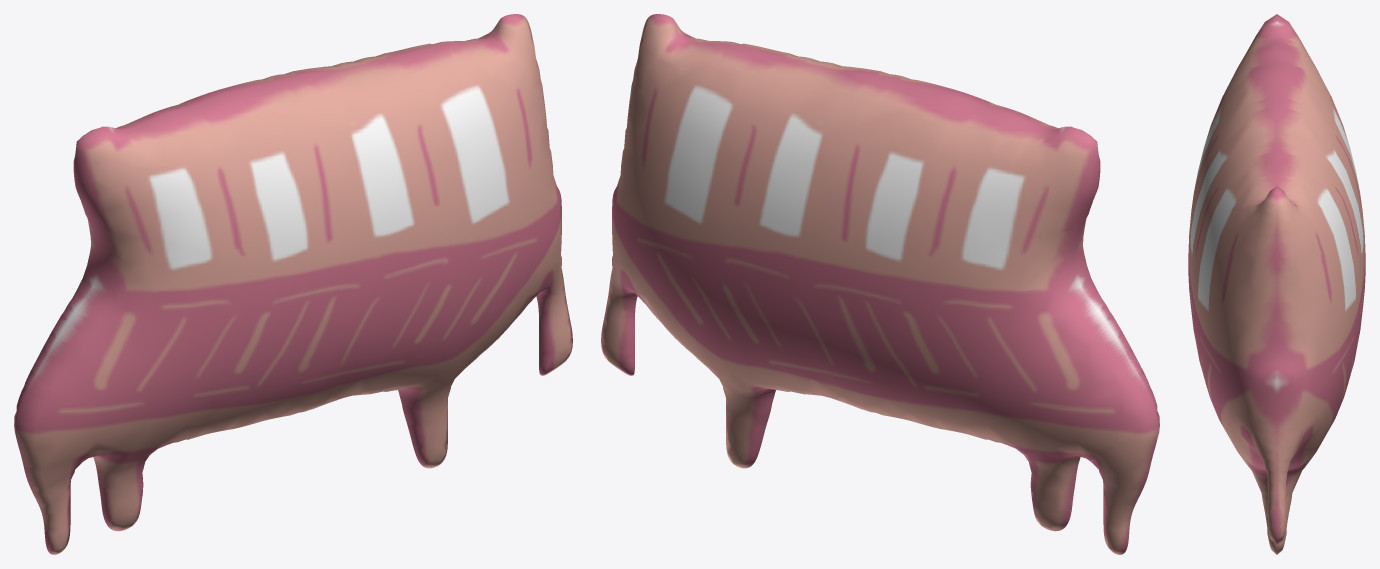
The model's file is pinkBench.glb.
The picture shows the model from 3 angles, left to right: view 1: azimuth 30°, elevation 25°; view 2: azimuth 150°, elevation 25°; view 3: azimuth 270°, elevation 25°; orthographic projection. The views are drawn at different scales.
Parts seen in each view (by area): view 1: Mesh_0.016; view 2: Mesh_0.016; view 3: Mesh_0.016.
Boxes of the visible parts, x1,y1,x2,y2 form: Mesh_0.016: [14, 14, 572, 554]; Mesh_0.016: [601, 14, 1159, 554]; Mesh_0.016: [1188, 14, 1365, 554].
Bounding box in the file's own units: 257 × 191 × 76.98.
1 material, 1 textured.
